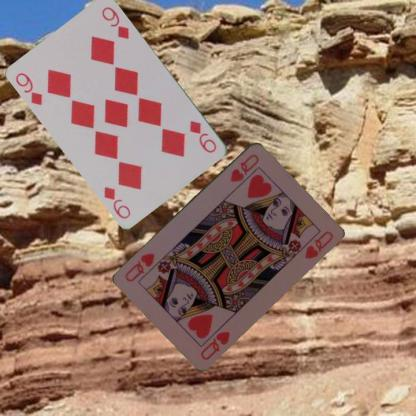9d: (13, 70, 44, 107), (188, 118, 218, 155)
Qh: (198, 328, 231, 361), (228, 152, 260, 184)
